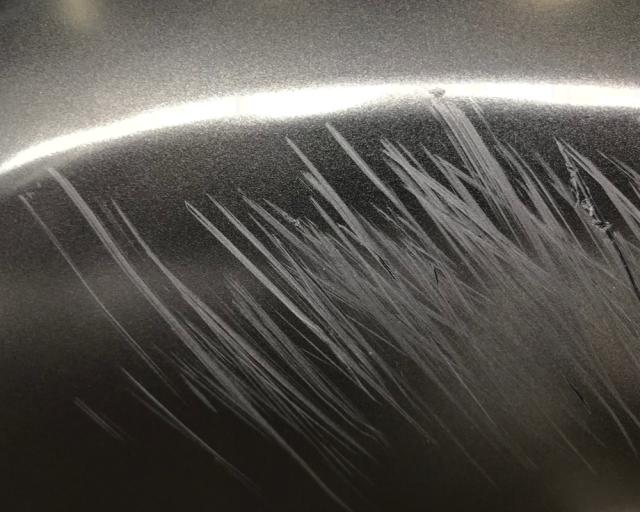scratch: (14, 88, 640, 512)
